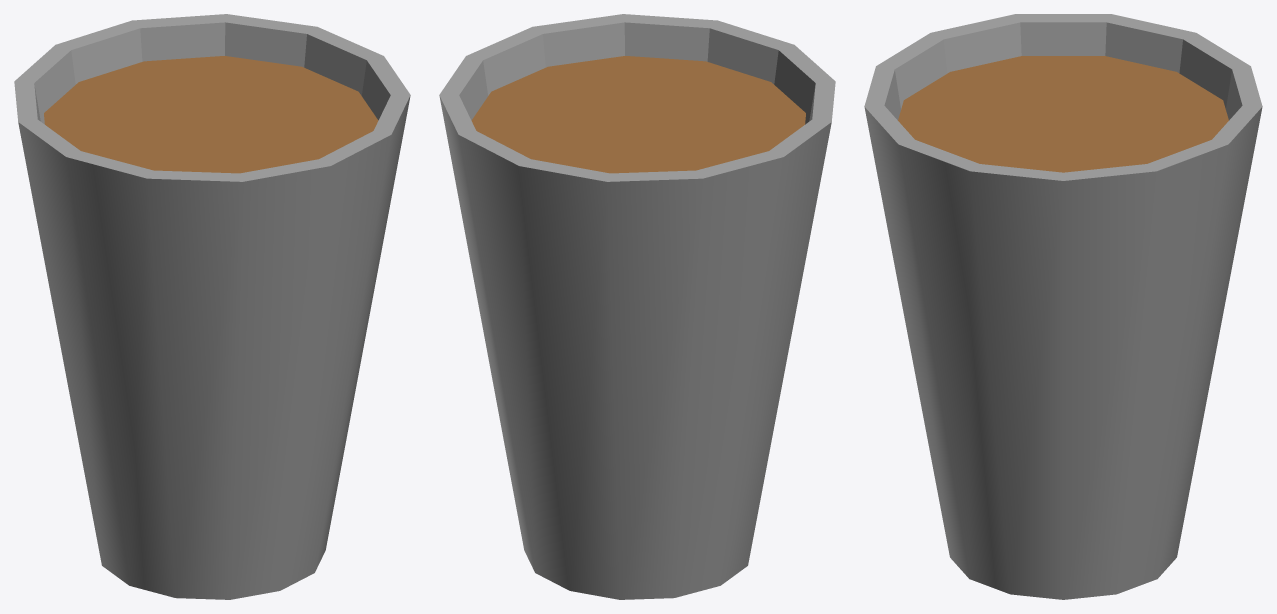
File: coffee_cup_full.fbx
3 renders of one model, left to right at view 1: azimuth 30°, elevation 25°; view 2: azimuth 150°, elevation 25°; view 3: azimuth 270°, elevation 25°, orthographic.
Parts seen in each view (by area): view 1: coffee_cup_full; view 2: coffee_cup_full; view 3: coffee_cup_full.
Part boxes in pixels (box(x1,y1,x2,y2)): coffee_cup_full: box(14, 14, 410, 599); coffee_cup_full: box(439, 14, 835, 599); coffee_cup_full: box(864, 14, 1262, 599).
Bounding box in the file's own units: 2.57 × 3.27 × 2.59.
